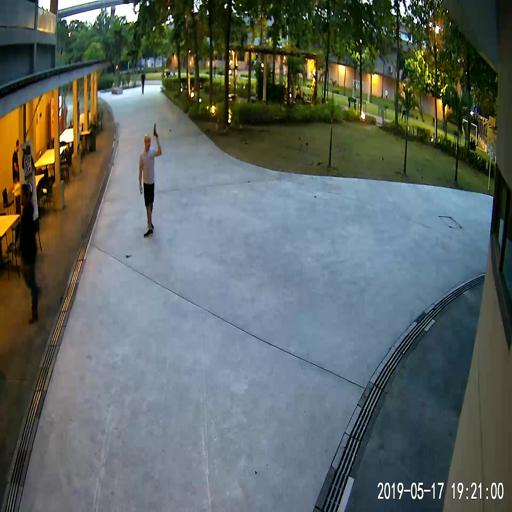pistol: (153, 122, 159, 137)
